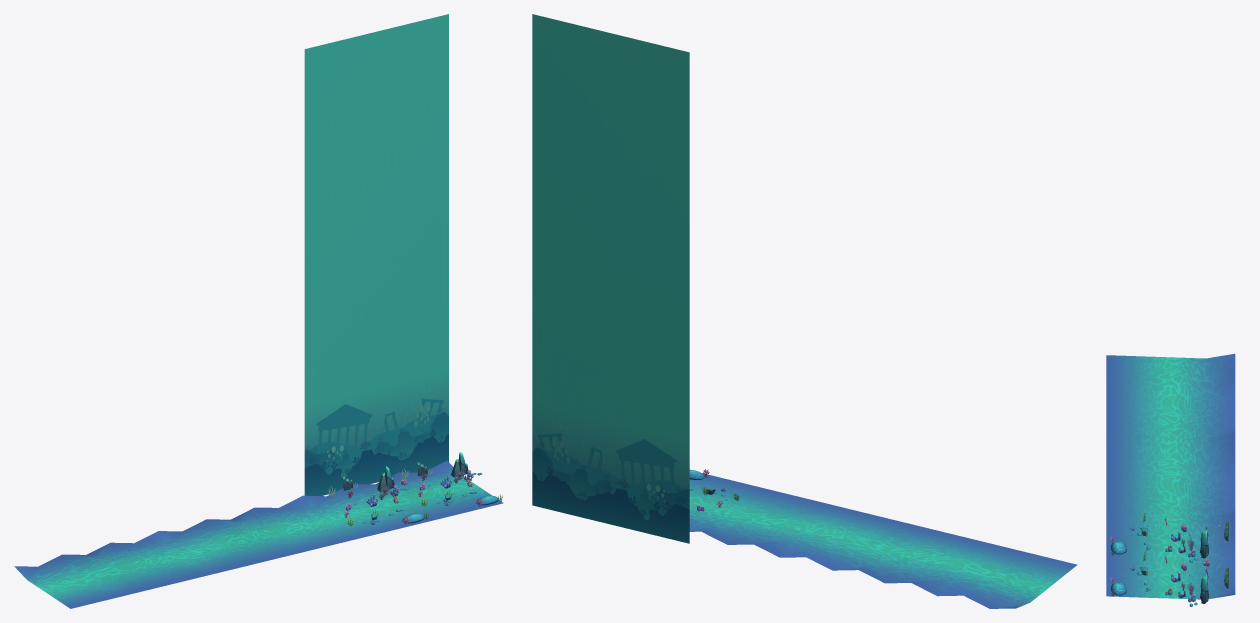
The model's file is demo map 2.FBX.
3 renders of one model, left to right at view 1: azimuth 30°, elevation 25°; view 2: azimuth 150°, elevation 25°; view 3: azimuth 270°, elevation 25°, orthographic. The views are drawn at different scales.
Parts seen in each view (by area): view 1: size013, size002; view 2: size013, size002; view 3: size002.
Part boxes in pixels (x1=…): size013: x1=304, y1=14, x2=448, y2=495; size002: x1=14, y1=460, x2=503, y2=608; size013: x1=532, y1=14, x2=689, y2=543; size002: x1=689, y1=473, x2=1077, y2=608; size002: x1=1106, y1=353, x2=1235, y2=599.
Size of the model in its own units: 10560 by 10140 by 2492.
